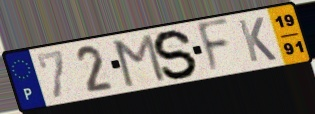2: (75, 44, 116, 94)
7: (34, 49, 67, 101)
F: (195, 16, 233, 78)
K: (236, 16, 279, 65)
M: (112, 32, 168, 90)
S: (152, 28, 200, 80)
